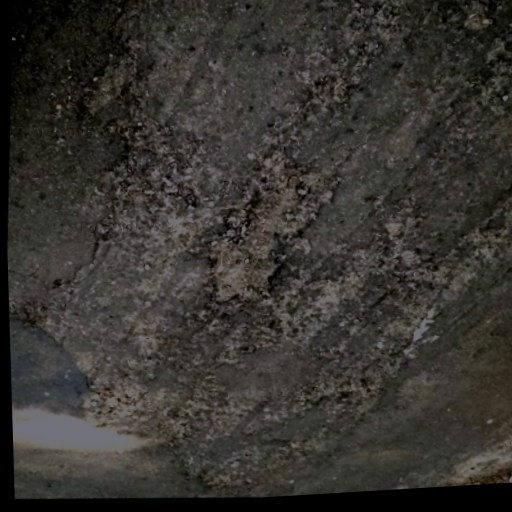pothole: (198, 152, 345, 318)
